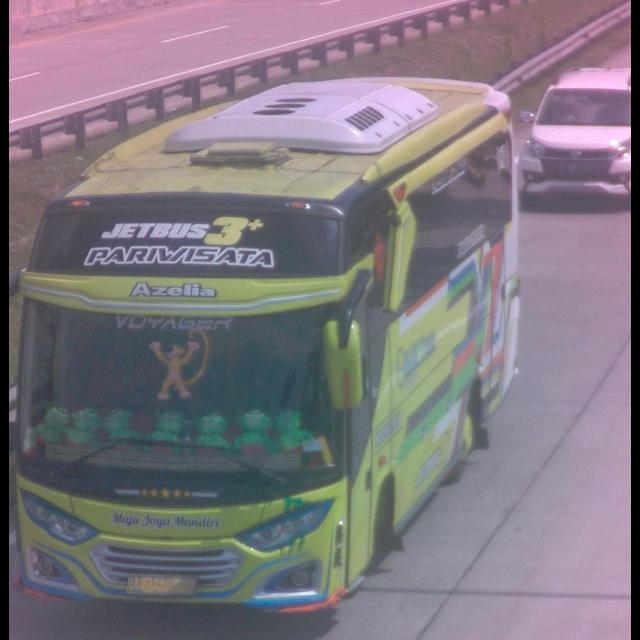plate: (122, 571, 202, 598)
